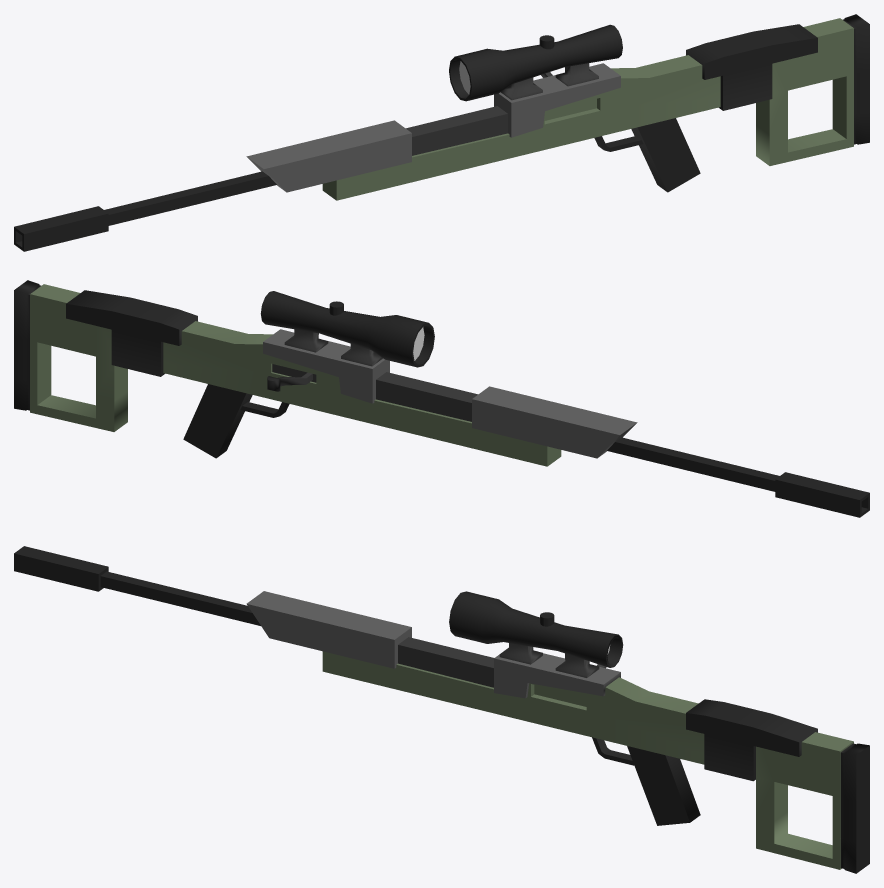
File: gun 2.fbx
3 views of the same model, one above another, from view 1: azimuth 30°, elevation 25°; view 2: azimuth 150°, elevation 25°; view 3: azimuth 330°, elevation 25° (orthographic).
Parts seen in each view (by area): view 1: Body, Upper_Body, Scope; view 2: Body, Upper_Body, Scope, Stick; view 3: Body, Upper_Body, Scope.
Boxes of the visible parts, x1,y1,x2,y2 form: Body: (322,14,869,200); Upper_Body: (14,63,620,251); Scope: (449,24,622,101); Body: (14,280,561,466); Upper_Body: (263,329,869,517); Scope: (260,291,434,367); Stick: (267,372,312,391); Body: (322,651,869,873); Upper_Body: (14,546,620,698); Scope: (449,591,623,677).
Bounding box in the file's own units: 925 × 188 × 105.
5 materials, 4 textured.
